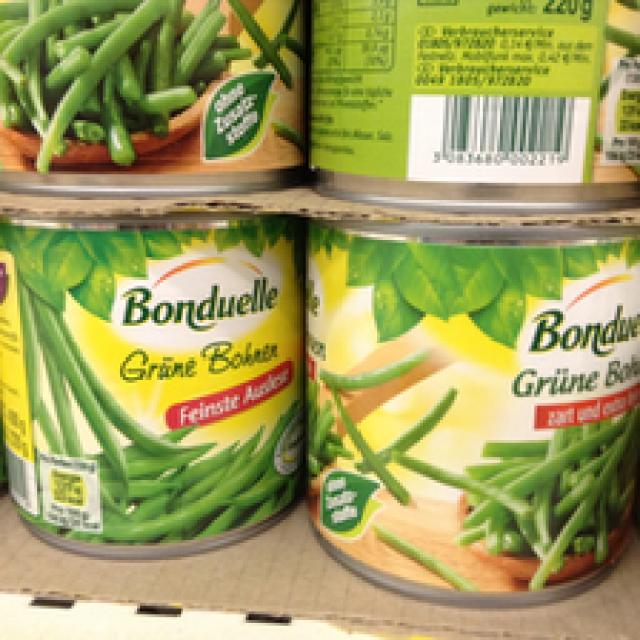groceries: (294, 208, 634, 606), (0, 214, 300, 557), (311, 0, 634, 211), (0, 0, 303, 186)
